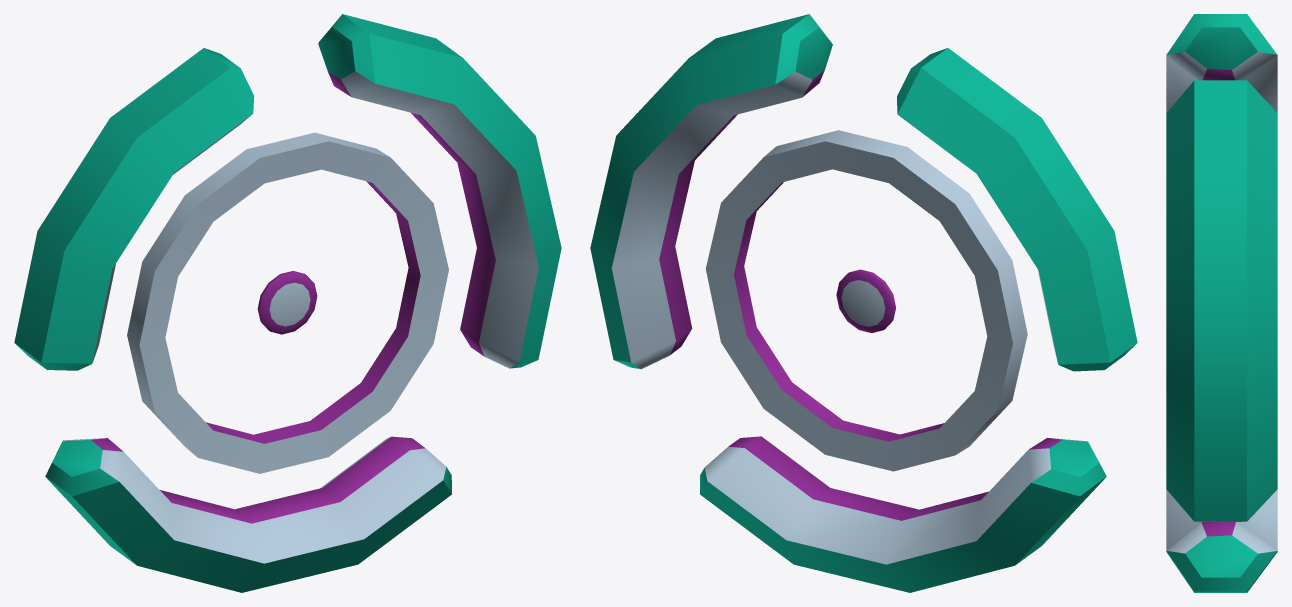
File: Portal.fbx
The picture shows the model from 3 angles, left to right: view 1: azimuth 30°, elevation 25°; view 2: azimuth 150°, elevation 25°; view 3: azimuth 270°, elevation 25°; orthographic projection.
Visible parts, largest first — view 1: Cylinder001; view 2: Cylinder001; view 3: Cylinder001.
Part boxes in pixels (box(x1,y1,x2,y2)): Cylinder001: box(14, 14, 561, 592); Cylinder001: box(590, 14, 1137, 592); Cylinder001: box(1166, 14, 1277, 592).
Size of the model in its own units: 0.000166 by 0.000161 by 3.13e-05.
